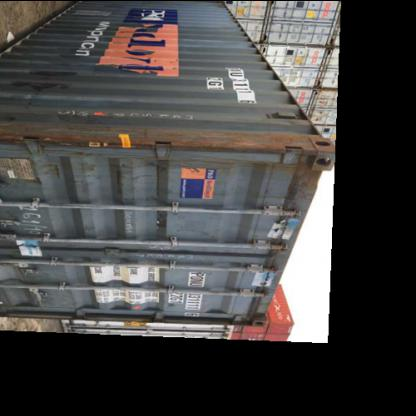Damage: (66, 125, 278, 151), (288, 124, 334, 192), (99, 20, 138, 52), (256, 240, 284, 281), (150, 51, 184, 74), (136, 188, 177, 207)
